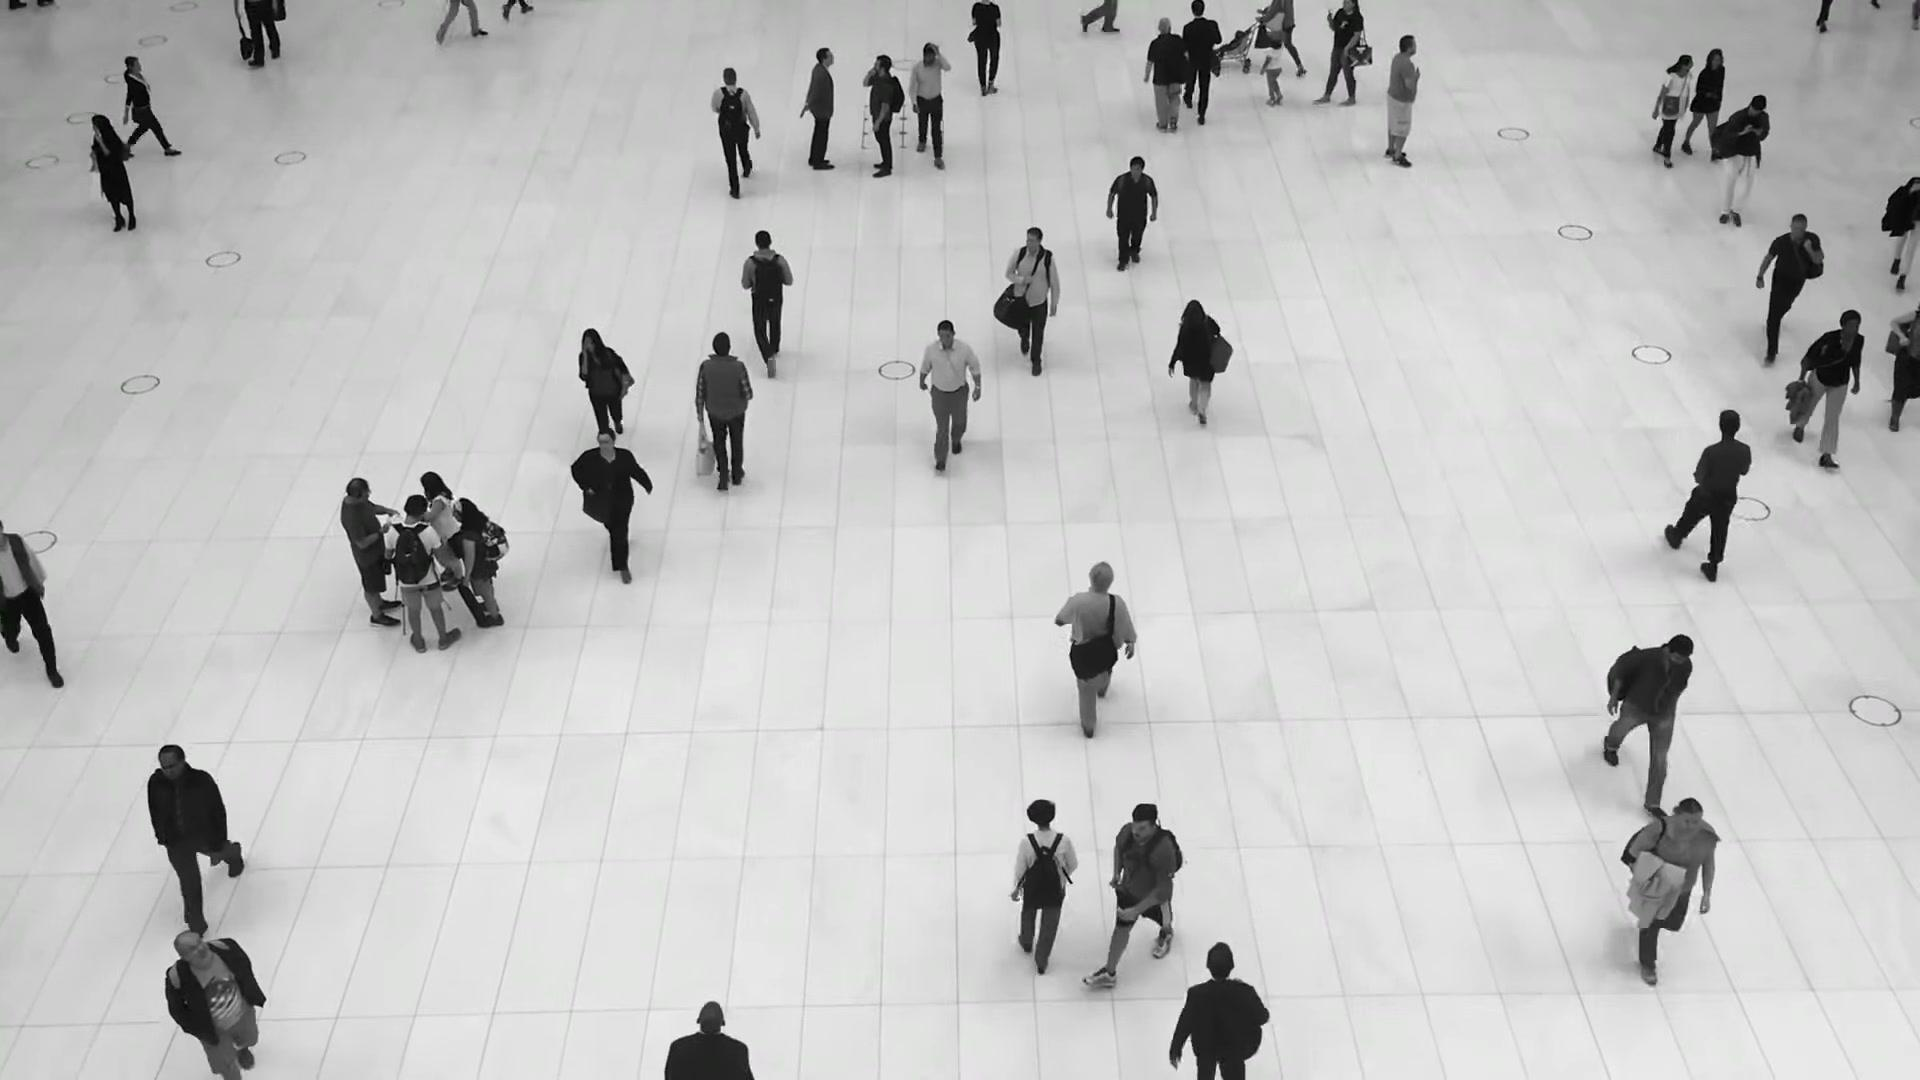person: (147, 740, 242, 929), (1093, 802, 1182, 992), (1625, 794, 1715, 977), (1601, 630, 1694, 805), (162, 927, 265, 1079), (1668, 411, 1751, 590), (1056, 563, 1137, 747), (1171, 945, 1268, 1079), (1011, 803, 1079, 988), (571, 426, 652, 577), (1789, 308, 1865, 471), (385, 494, 461, 652), (1752, 212, 1823, 363), (918, 321, 981, 473), (693, 332, 753, 494), (340, 477, 402, 629), (1710, 95, 1769, 234), (1004, 225, 1058, 373), (741, 230, 793, 373), (704, 69, 757, 201), (452, 497, 504, 628), (1170, 299, 1223, 422), (1104, 157, 1157, 275), (577, 326, 633, 433), (1314, 0, 1365, 109), (90, 114, 136, 233), (908, 41, 951, 167), (1144, 19, 1189, 136), (1680, 48, 1725, 163), (1648, 54, 1693, 167), (861, 56, 902, 180), (419, 471, 460, 592), (1181, 0, 1221, 125), (121, 54, 172, 153), (1383, 34, 1420, 168), (799, 48, 836, 172), (1256, 0, 1305, 76), (970, 0, 1002, 103), (1259, 38, 1284, 107)
